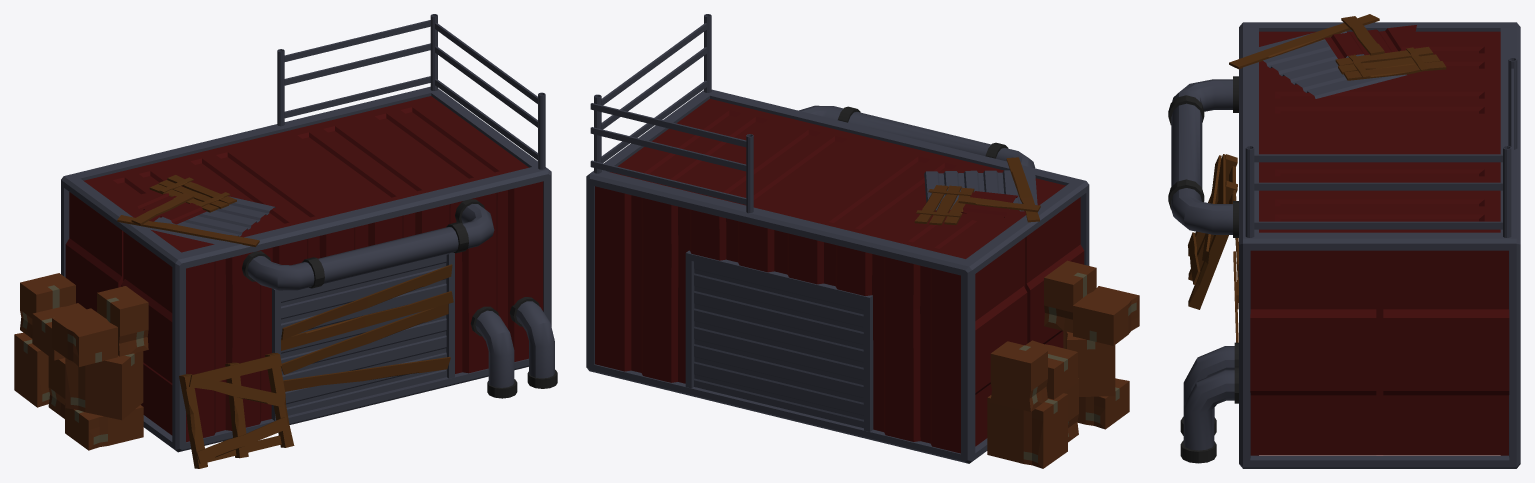
File: Structure_1.obj
The picture shows the model from 3 angles, left to right: view 1: azimuth 30°, elevation 25°; view 2: azimuth 150°, elevation 25°; view 3: azimuth 270°, elevation 25°; orthographic projection. The views are drawn at different scales.
Parts seen in each view (by area): view 1: Structure_1_Cube.035; view 2: Structure_1_Cube.035; view 3: Structure_1_Cube.035.
Boxes of the visible parts, left/top/right/bottom form: Structure_1_Cube.035: left=14, top=14, right=557, bottom=468; Structure_1_Cube.035: left=586, top=14, right=1139, bottom=468; Structure_1_Cube.035: left=1168, top=14, right=1520, bottom=468.
Size of the model in its own units: 7.98 by 4.56 by 4.52.
